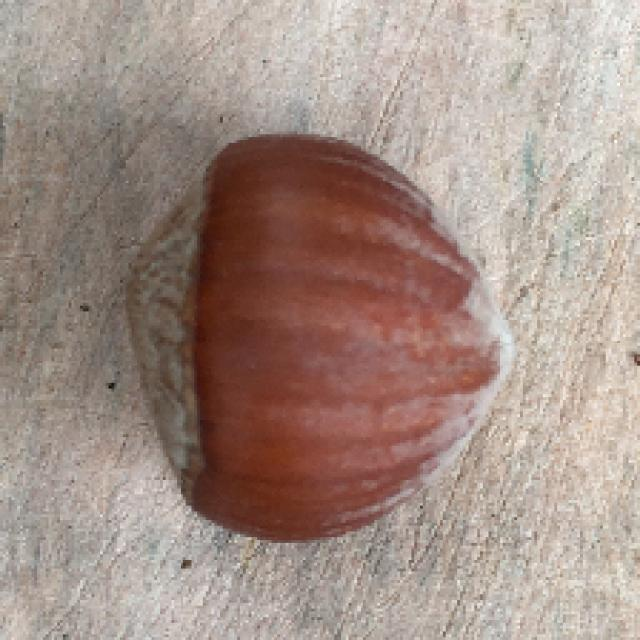qualityHazelnut: (126, 124, 526, 546)
